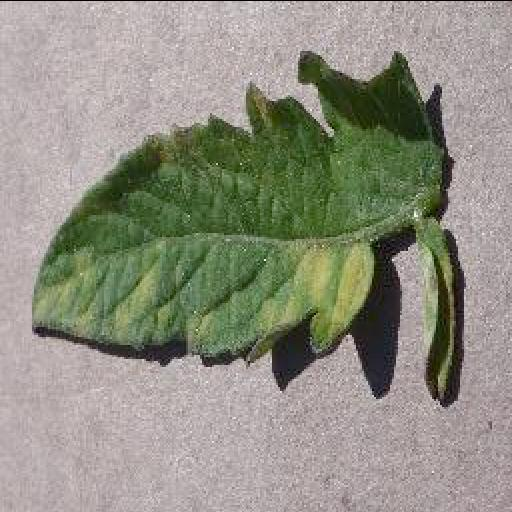disease_tomato: (29, 52, 451, 362)
